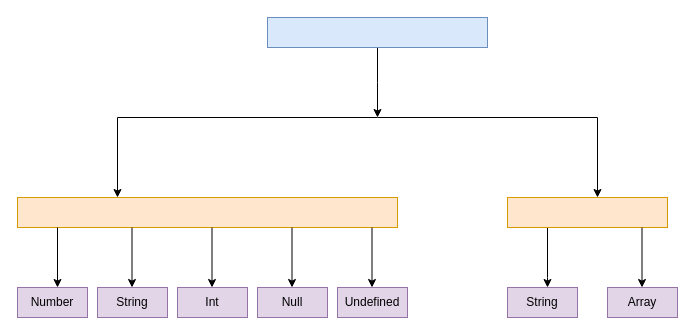
Image size: 695x335. Some labels were removed from this diagram. Here are the shapes that lost their labels. From the top down, the centre of each, then its label:
At point 377,32: "Data Types".
At point 207,212: "Primitive Data Types.".
At point 587,212: "Non-Primitive Data Types.".
